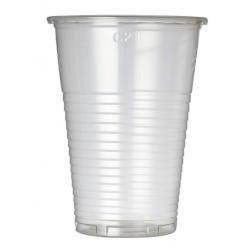plastic_bottle: (45, 11, 211, 238)
